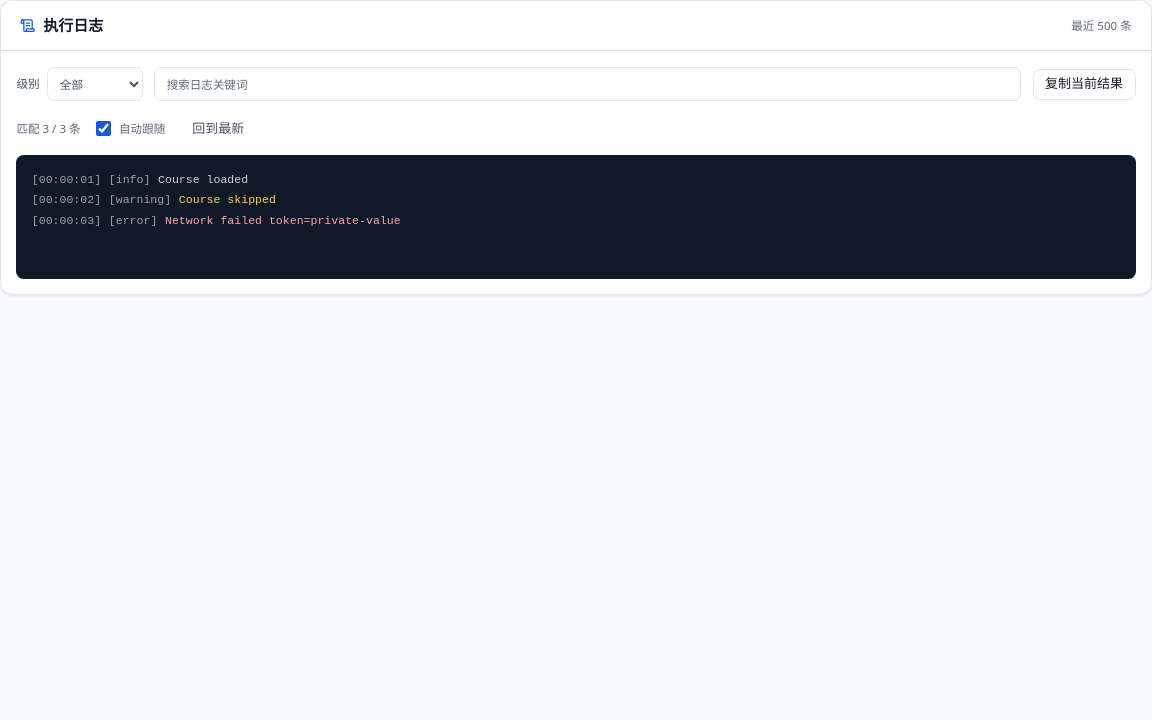
Test: offers a manual copy fallback when clipboard is missing
Select "仅错误" in the dropdown named "日志级别" at coordinates (95, 84), box [47, 67, 143, 101]
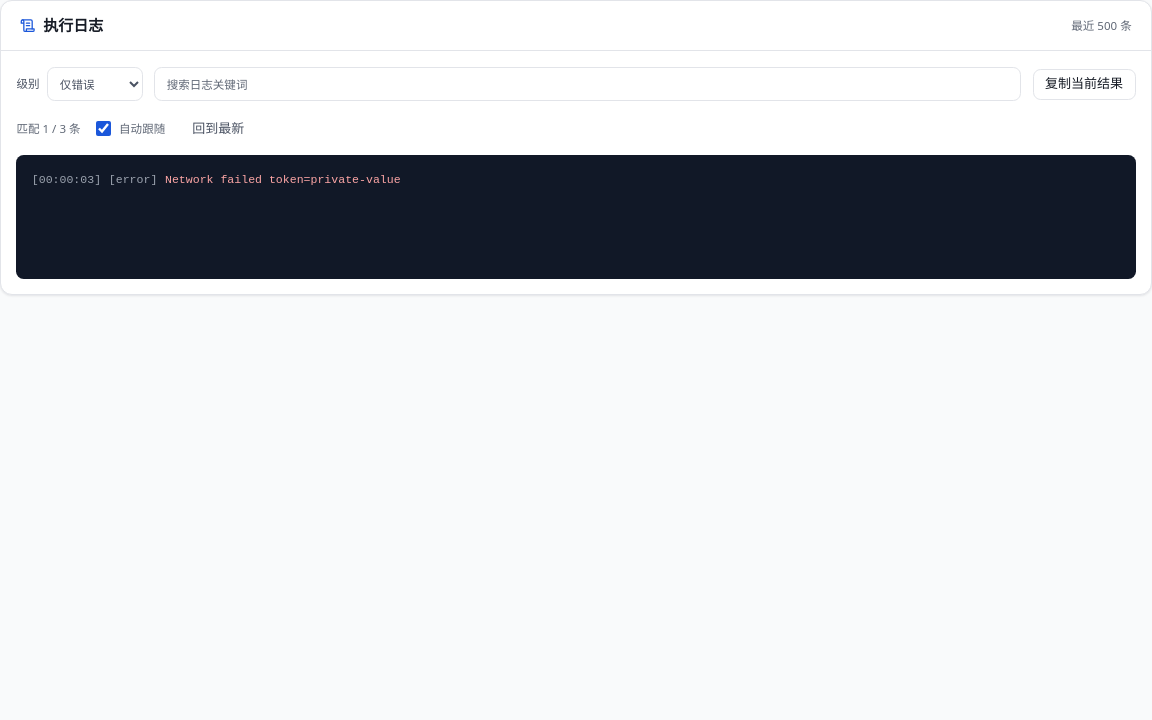
Click the button "复制当前结果".
click(1084, 84)  # box [1032, 69, 1136, 100]
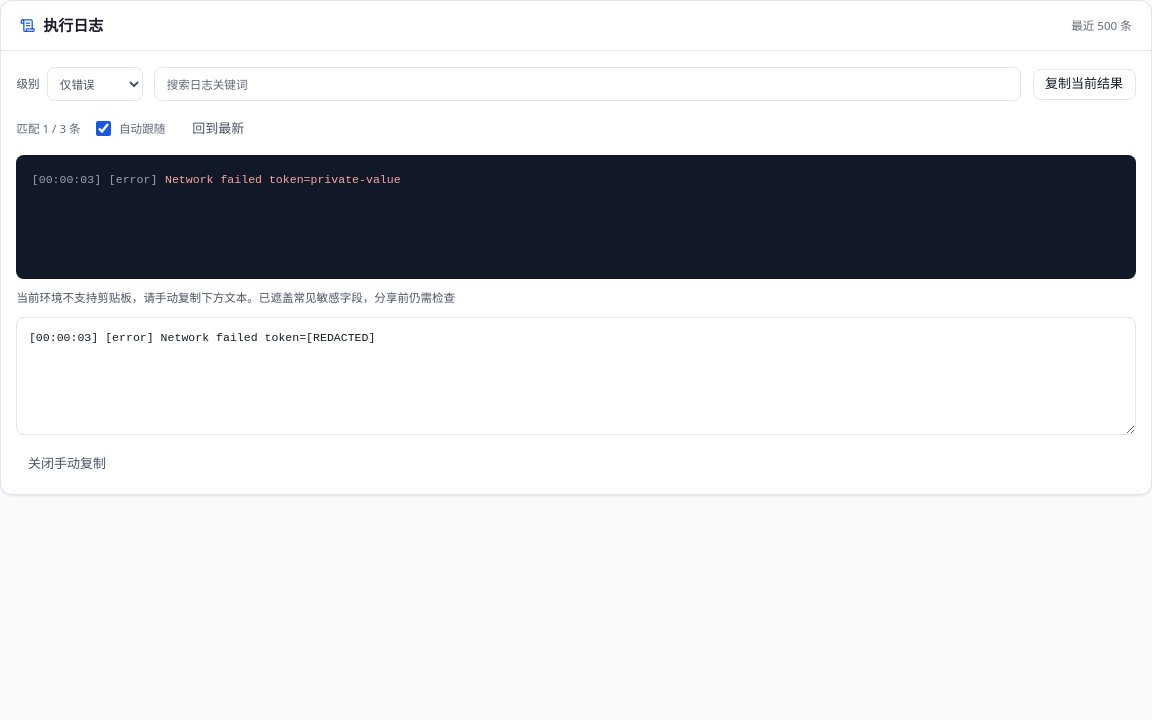
Now the text "当前环境不支持剪贴板，请手动复制下方文本。已遮盖常见敏感字段，分享前仍需检查" is shown, box [16, 290, 455, 305]
Click the button "关闭手动复制".
click(67, 464)  # box [16, 448, 118, 479]
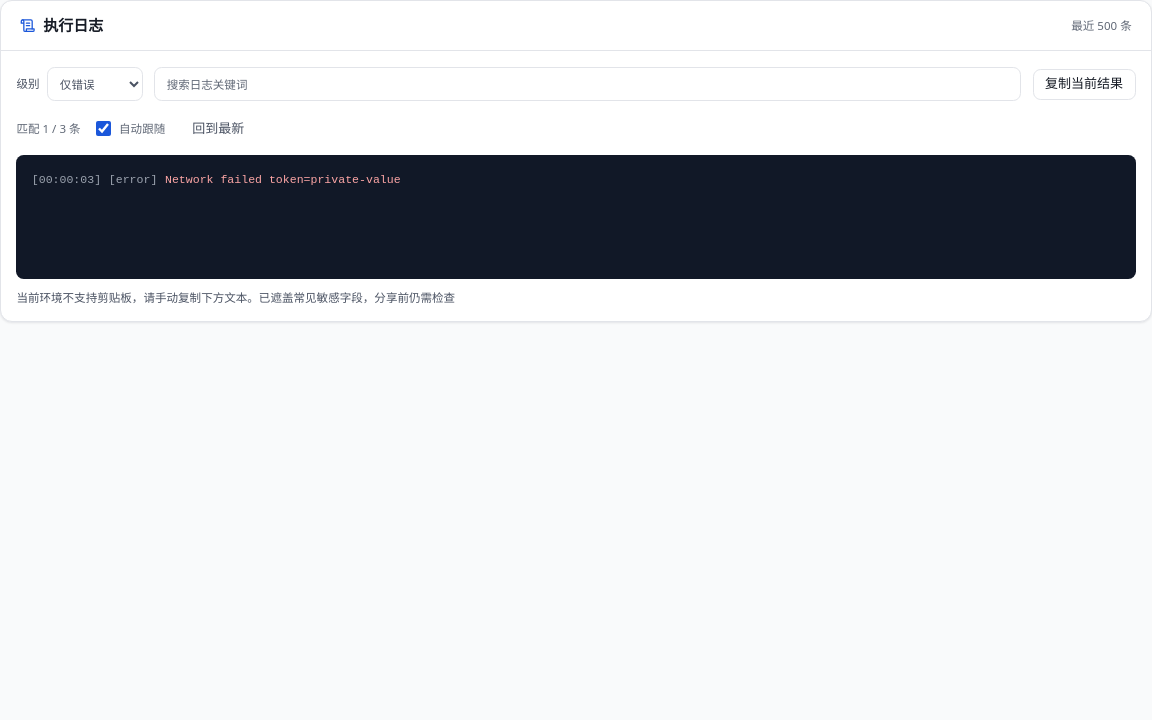
Now the text box labelled "手动复制日志" is gone
